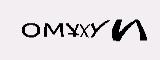Ұ: (65, 23, 81, 41)
